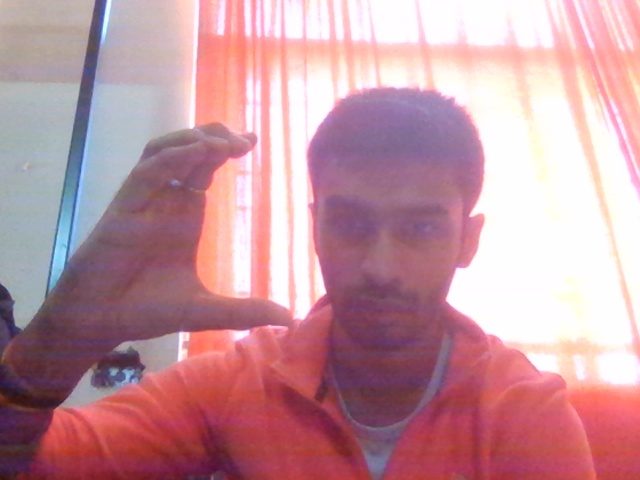C: (22, 105, 305, 419)
